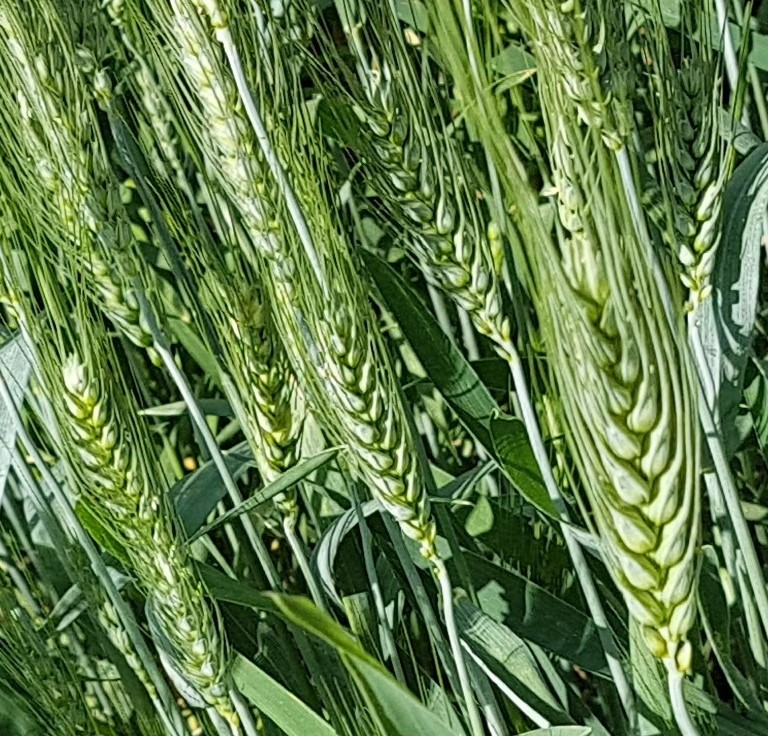Healthy Wheat: (544, 279, 732, 654), (48, 352, 234, 677), (311, 299, 461, 553), (354, 97, 514, 309)
